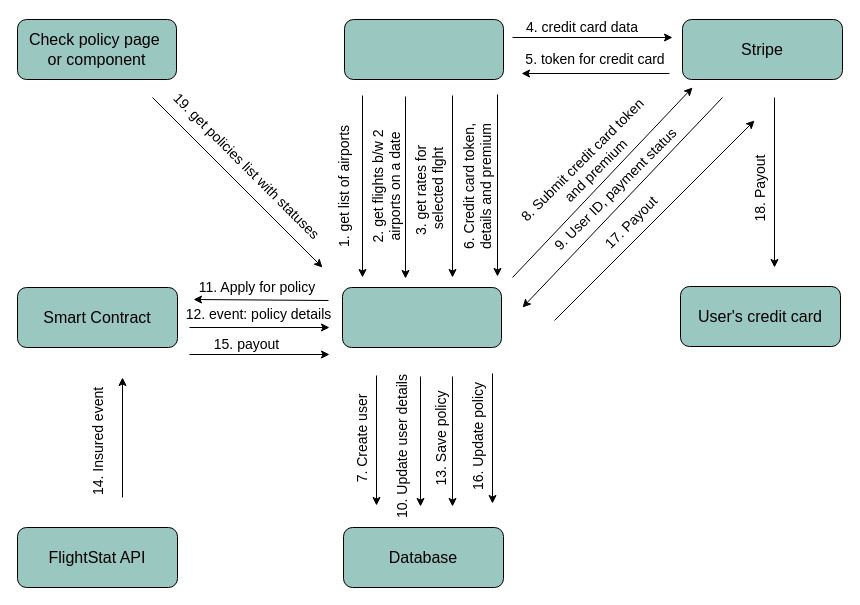
The diagram is 860 pixels wide and 605 high, and some of its shapes have lost their labels. Here are the shapes that lost their labels. From the top down, the centre of each, then its label:
At [424,49]: "Integrated SDK".
At [422,317]: "API Server".
